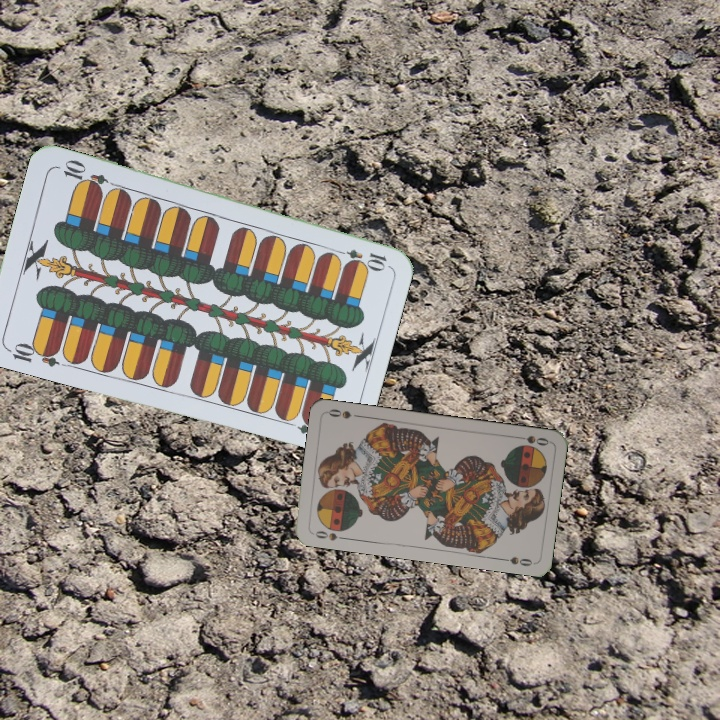E10: (3, 338, 62, 370), (330, 244, 389, 271)
SO: (308, 526, 349, 543), (511, 431, 551, 448)
